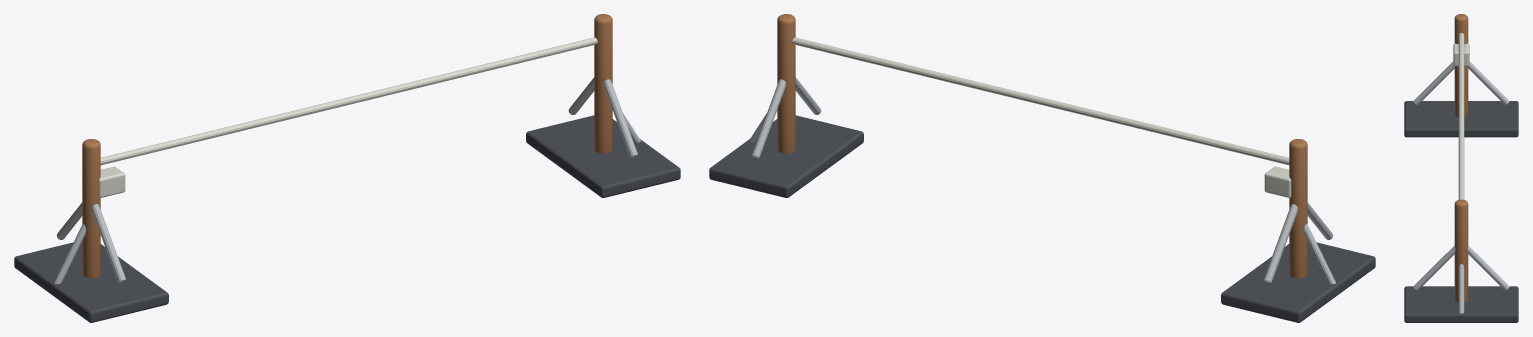
Rendered from game_slackline.glb.
3 renders of one model, left to right at view 1: azimuth 30°, elevation 25°; view 2: azimuth 150°, elevation 25°; view 3: azimuth 270°, elevation 25°, orthographic. The views are drawn at different scales.
Visible parts, largest first — view 1: Anchor plate.001, Anchor plate, Tint.045, Slackline stake.001, Slackline stake, Stake brace.001, Stake brace.003, Anchor peg; view 2: Anchor plate.001, Anchor plate, Tint.045, Slackline stake.001, Slackline stake, Stake brace, Stake brace.002, Anchor peg; view 3: Anchor plate.001, Anchor plate, Tint.045, Slackline stake.001, Slackline stake, Stake brace.002, Stake brace.003, Stake brace, Stake brace.001, Anchor peg.001.
Part boxes in pixels (left/top/right/bottom): Anchor plate.001: left=526, top=115, right=680, bottom=197; Anchor plate: left=14, top=242, right=168, bottom=322; Tint.045: left=98, top=37, right=597, bottom=197; Slackline stake.001: left=594, top=14, right=612, bottom=153; Slackline stake: left=82, top=139, right=100, bottom=278; Stake brace.001: left=92, top=204, right=126, bottom=282; Stake brace.003: left=604, top=79, right=637, bottom=157; Anchor peg: left=54, top=223, right=85, bottom=284; Anchor plate.001: left=709, top=115, right=863, bottom=197; Anchor plate: left=1221, top=242, right=1375, bottom=322; Tint.045: left=792, top=37, right=1291, bottom=197; Slackline stake.001: left=777, top=14, right=795, bottom=153; Slackline stake: left=1289, top=139, right=1307, bottom=278; Stake brace: left=1263, top=204, right=1297, bottom=282; Stake brace.002: left=752, top=79, right=785, bottom=157; Anchor peg: left=1304, top=223, right=1335, bottom=284; Anchor plate.001: left=1404, top=286, right=1518, bottom=322; Anchor plate: left=1404, top=101, right=1518, bottom=137; Tint.045: left=1453, top=33, right=1469, bottom=199; Slackline stake.001: left=1454, top=199, right=1468, bottom=302; Slackline stake: left=1454, top=14, right=1468, bottom=116; Stake brace.002: left=1467, top=246, right=1509, bottom=290; Stake brace.003: left=1413, top=246, right=1455, bottom=290; Stake brace: left=1467, top=61, right=1509, bottom=105; Stake brace.001: left=1413, top=61, right=1455, bottom=105; Anchor peg.001: left=1458, top=264, right=1464, bottom=313.
Bounding box in the file's own units: 2.22 × 0.52 × 0.5.
